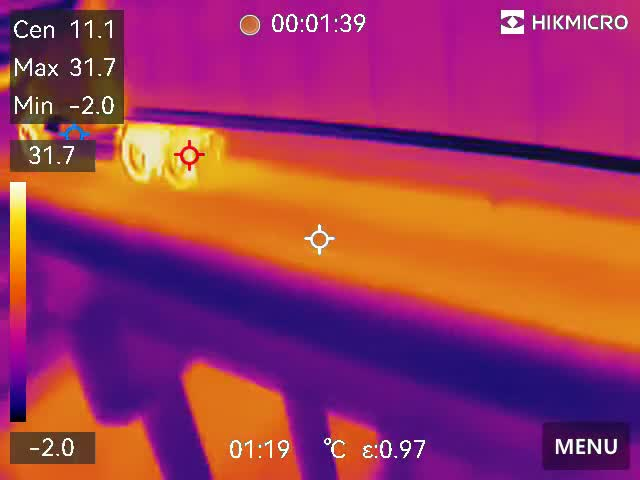heavyTruck: (1, 1, 640, 219)
